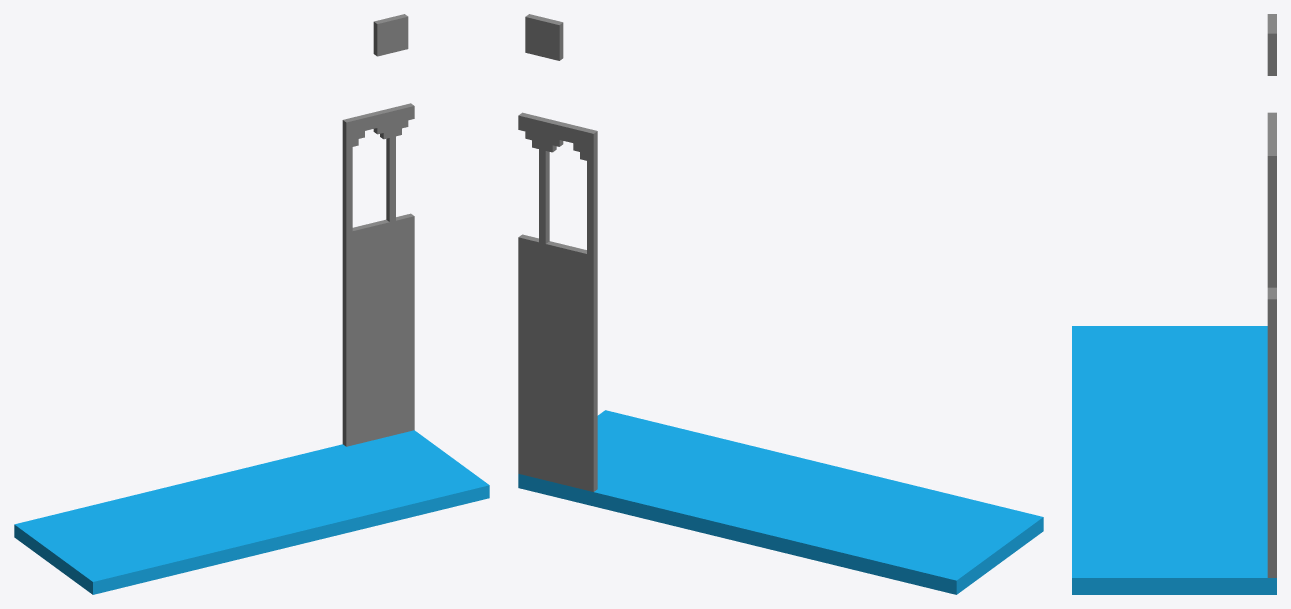
Rendered from castle 3 2-4.obj.
3 renders of one model, left to right at view 1: azimuth 30°, elevation 25°; view 2: azimuth 150°, elevation 25°; view 3: azimuth 270°, elevation 25°, orthographic. The views are drawn at different scales.
Bounding box in the file's own units: 6.4 × 6.6 × 2.2.
1 material, 1 textured.
